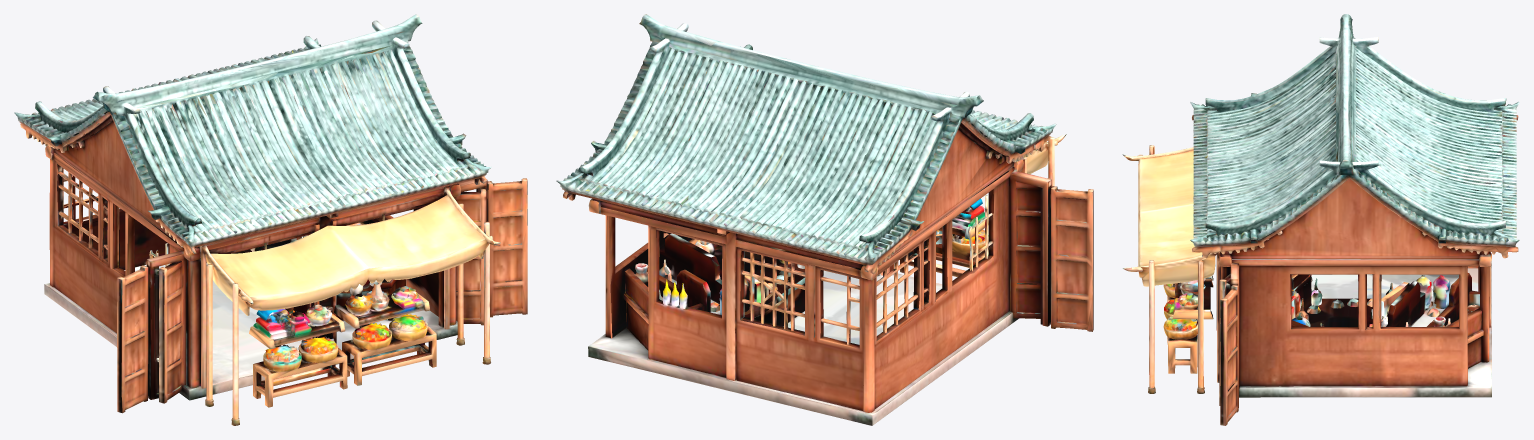
Rendered from qm_shop.glb.
The picture shows the model from 3 angles, left to right: view 1: azimuth 30°, elevation 25°; view 2: azimuth 150°, elevation 25°; view 3: azimuth 270°, elevation 25°; orthographic projection. The views are drawn at different scales.
Visible parts, largest first — view 1: qm_shop; view 2: qm_shop; view 3: qm_shop.
Part boxes in pixels (<box>): qm_shop: <box>14,14,527,425</box>; qm_shop: <box>556,14,1093,425</box>; qm_shop: <box>1122,14,1519,425</box>.
Size of the model in its own units: 9.71 by 6 by 8.7.
Materials: 1 (1 with a texture image).
